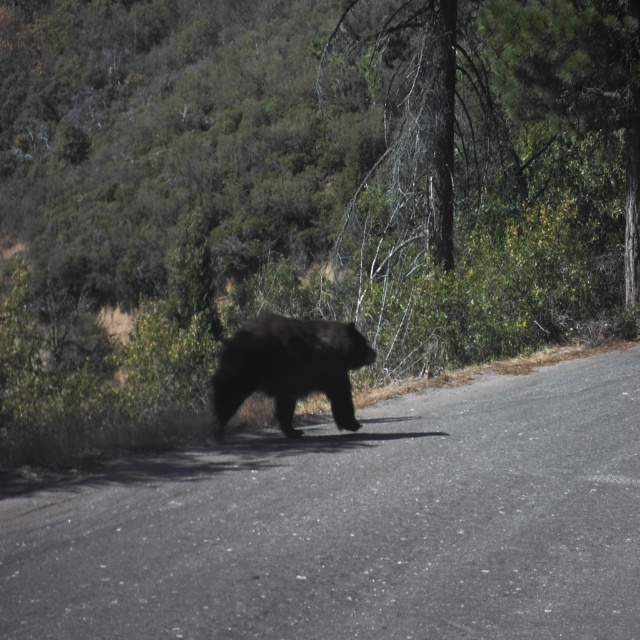Brown bear: (206, 306, 378, 445)
